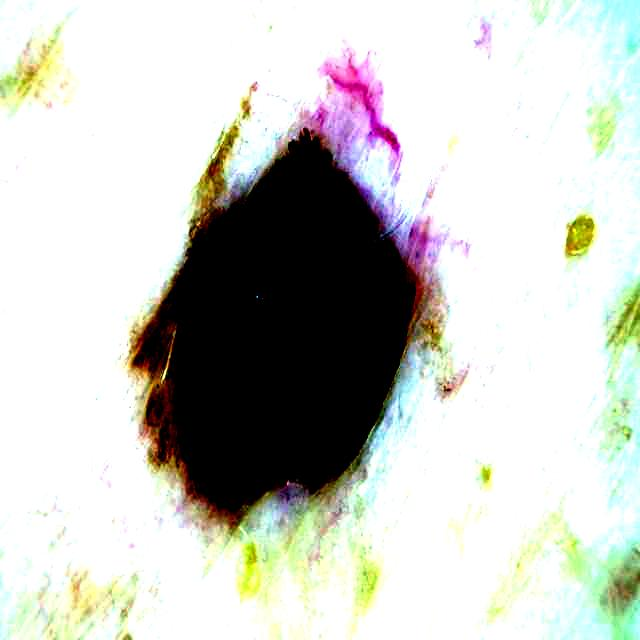BKL: (139, 131, 415, 497)
